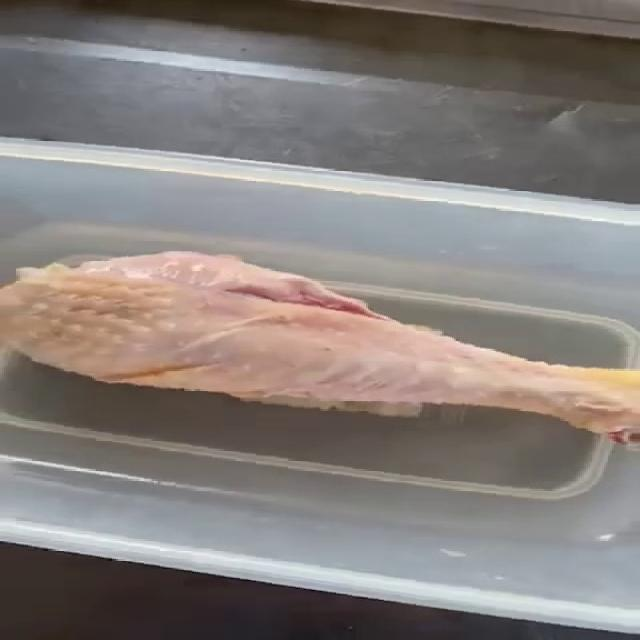chicken: (0, 248, 639, 447)
